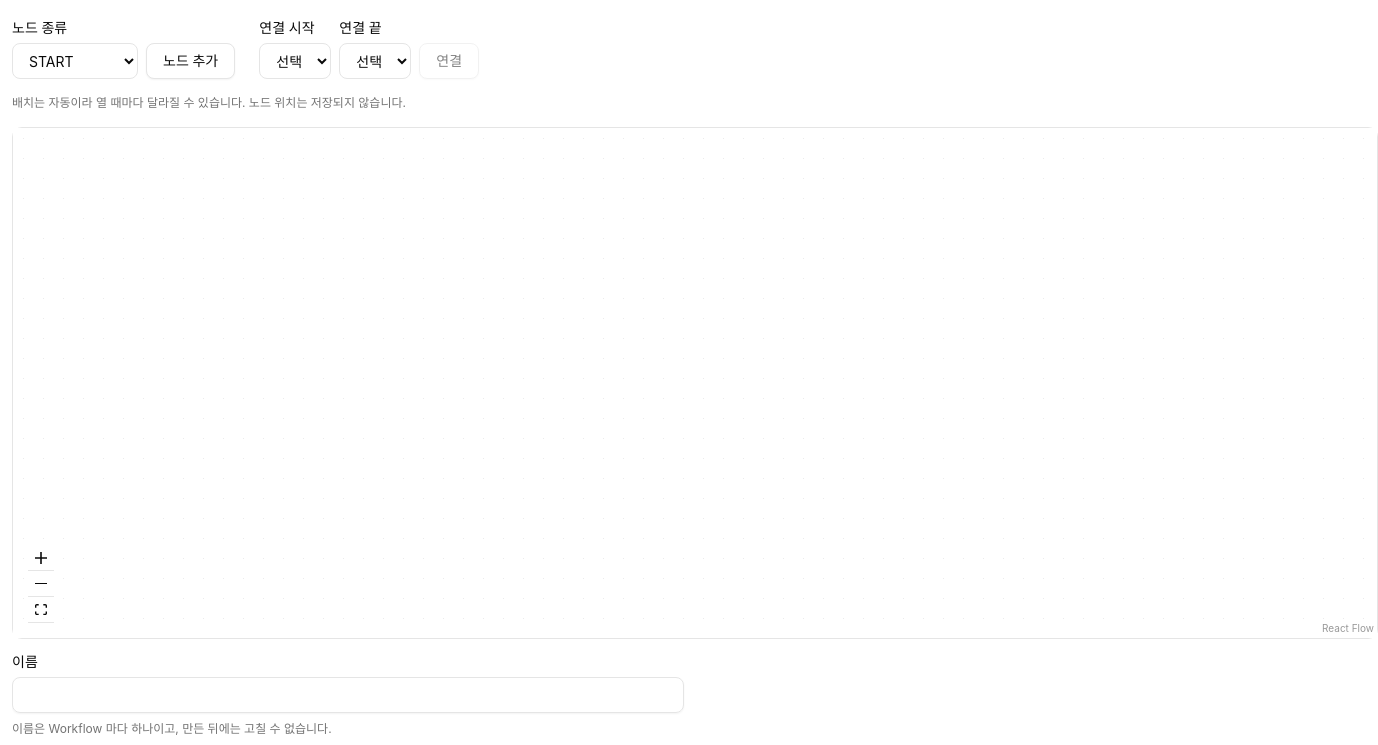
WorkflowEditor - 저장 (spec 0007 R-4, D-9; plan P5-6 판정) › 위반 없는 실패(키·네트워크)는 alert 문장만 보이고 입력은 지워지지 않는다
Step 1. Type "w" into the field labelled "이름" → (348, 695), box [12,677,684,713]
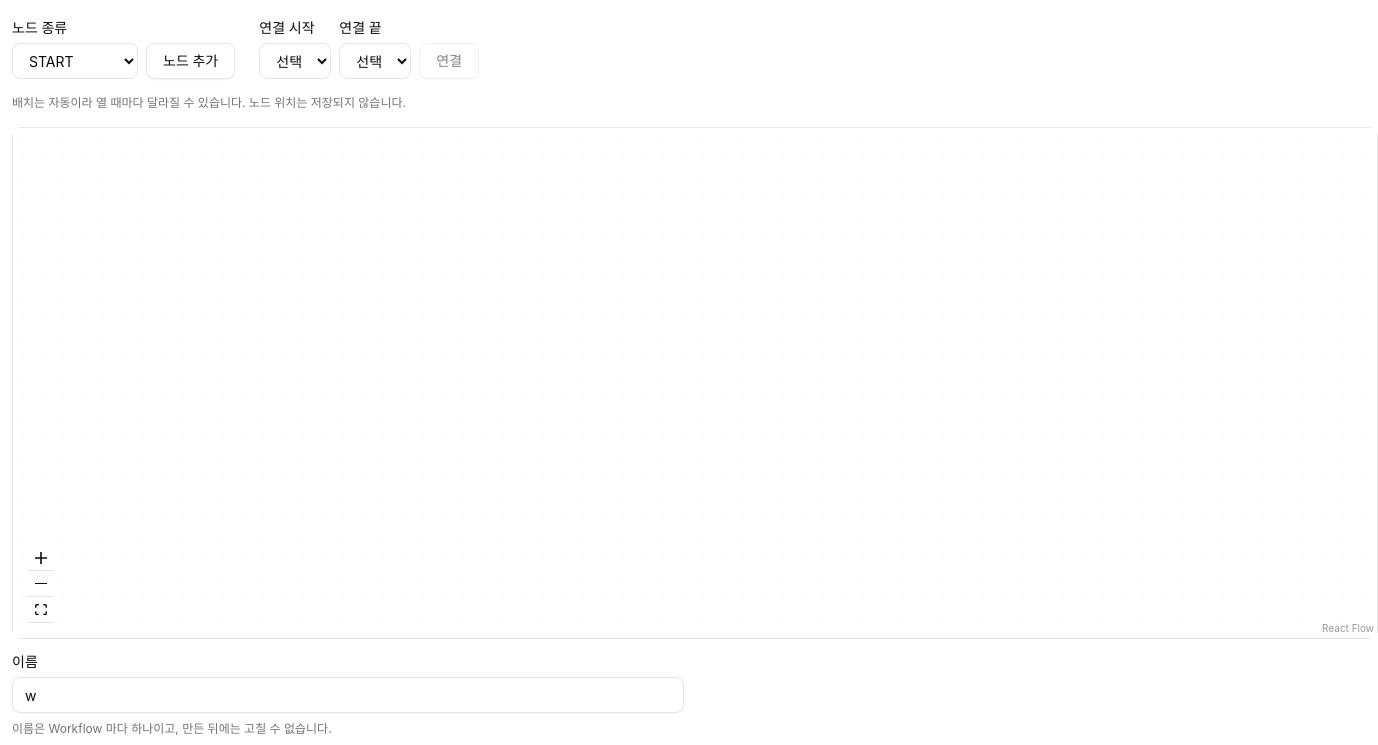
Step 2. Select "START" in the dropdown labelled "노드 종류" → (75, 61), box [12,43,138,79]
Step 3. Click the button "노드 추가" → (191, 61), box [146,43,235,79]
(page scrolled)
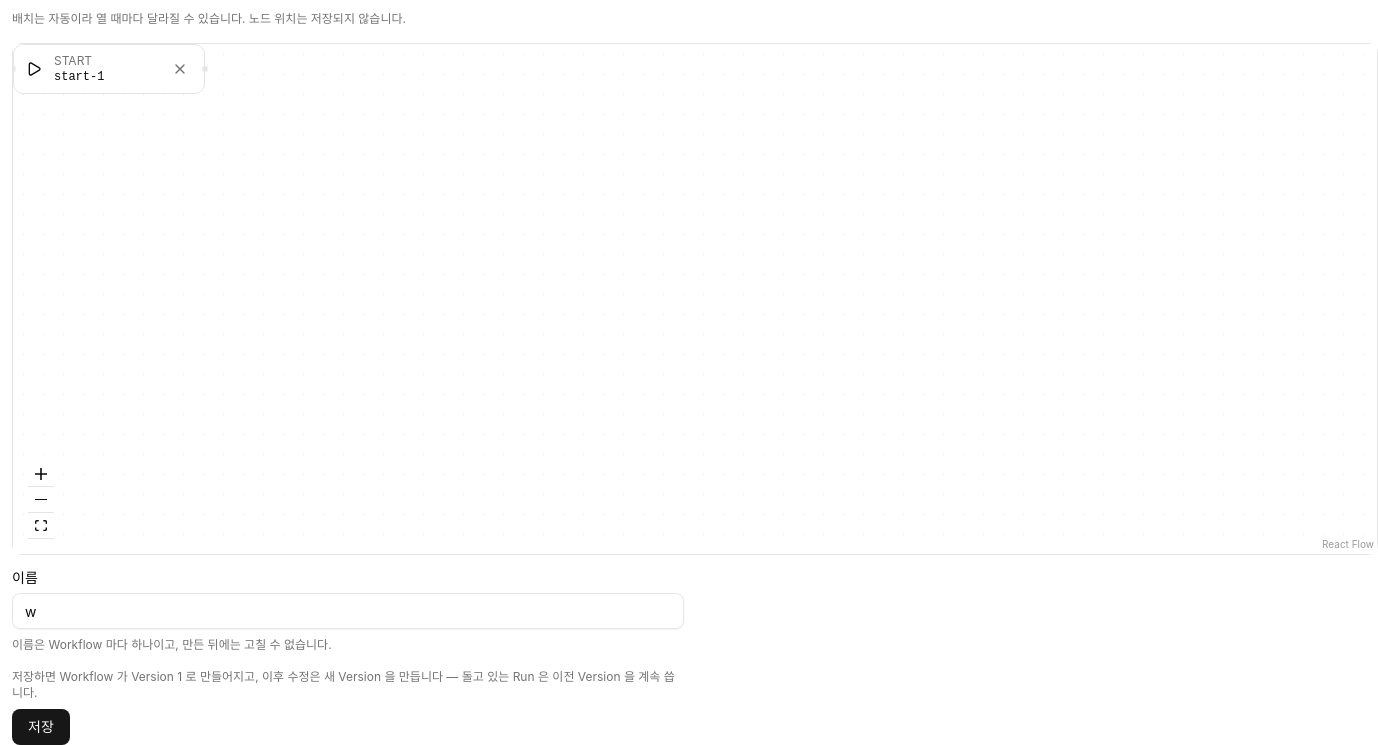
Step 4. Click the button "저장" → (41, 727), box [12,709,70,744]
(page scrolled)
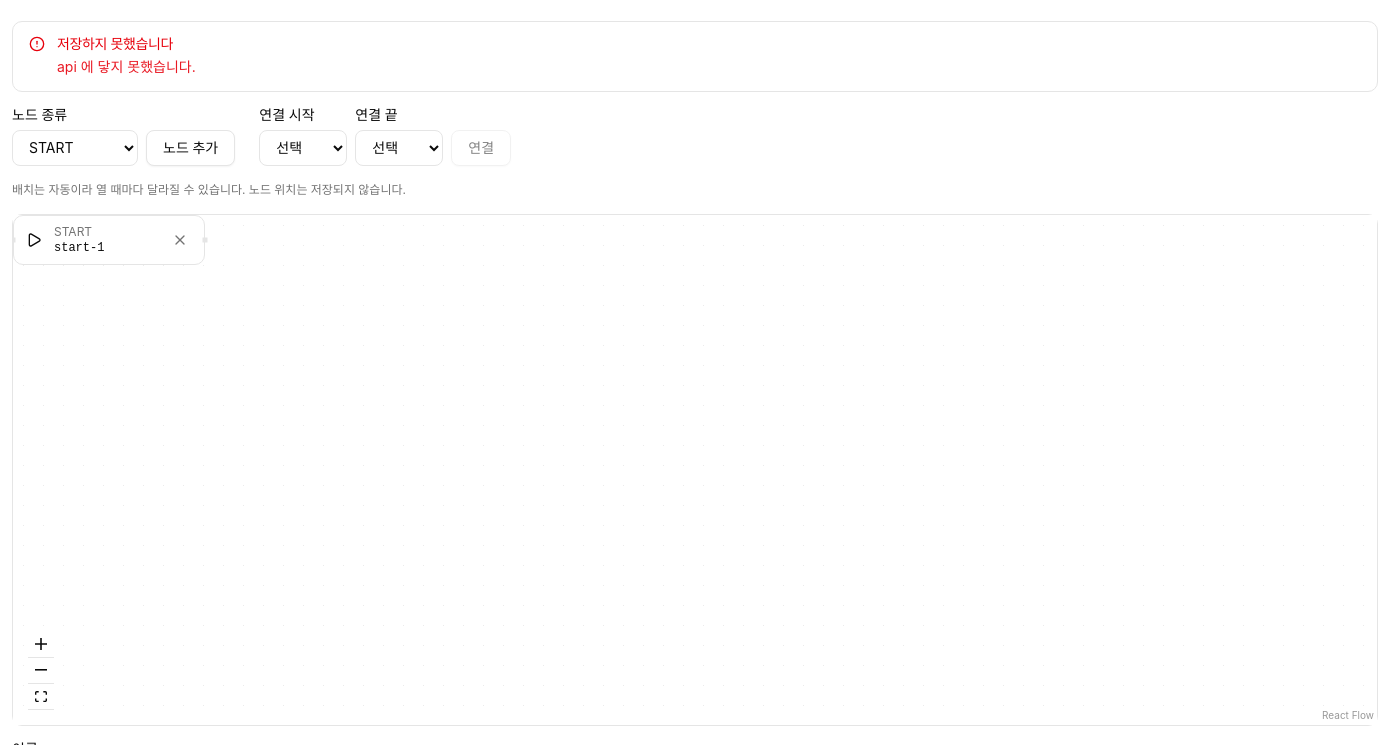
Now the text "api 에 닿지 못했습니다." is shown, box [57,56,196,79]
